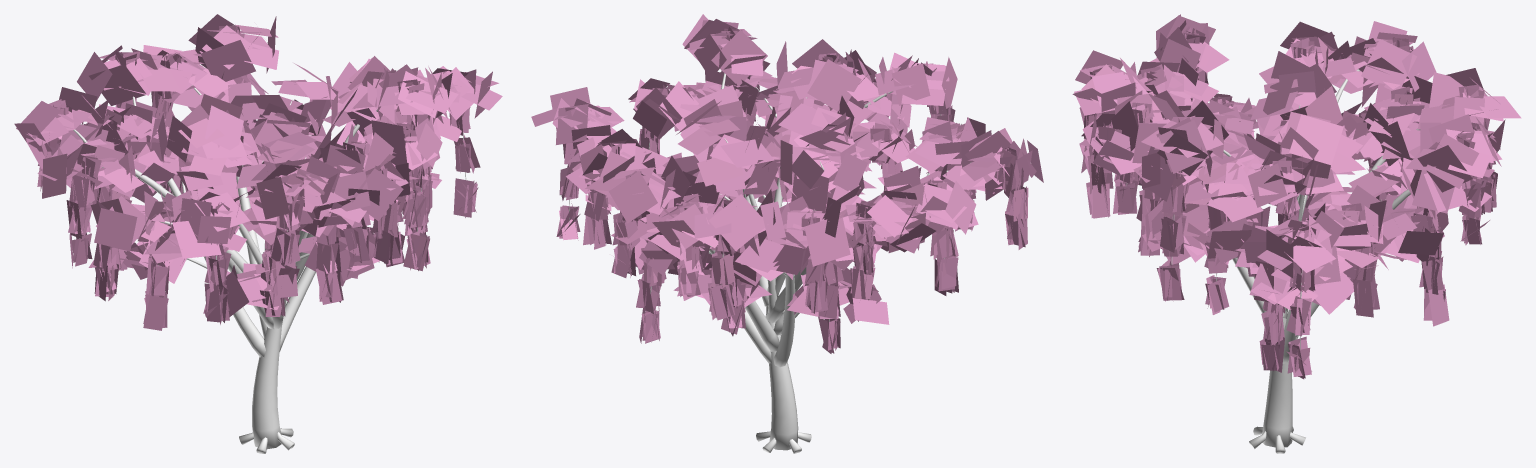
Rendered from SM_Sakura_Weeping_LOD0.fbx.
3 renders of one model, left to right at view 1: azimuth 30°, elevation 25°; view 2: azimuth 150°, elevation 25°; view 3: azimuth 270°, elevation 25°, orthographic. The views are drawn at different scales.
Visible parts, largest first — view 1: SM_Sakura_Weeping_LOD0; view 2: SM_Sakura_Weeping_LOD0; view 3: SM_Sakura_Weeping_LOD0.
Boxes of the visible parts, left/top/right/bottom form: SM_Sakura_Weeping_LOD0: left=14, top=14, right=502, bottom=453; SM_Sakura_Weeping_LOD0: left=531, top=14, right=1043, bottom=453; SM_Sakura_Weeping_LOD0: left=1072, top=14, right=1521, bottom=453.
Size of what is drawn, in the model's own units: 10.11 by 8.39 by 7.88.
